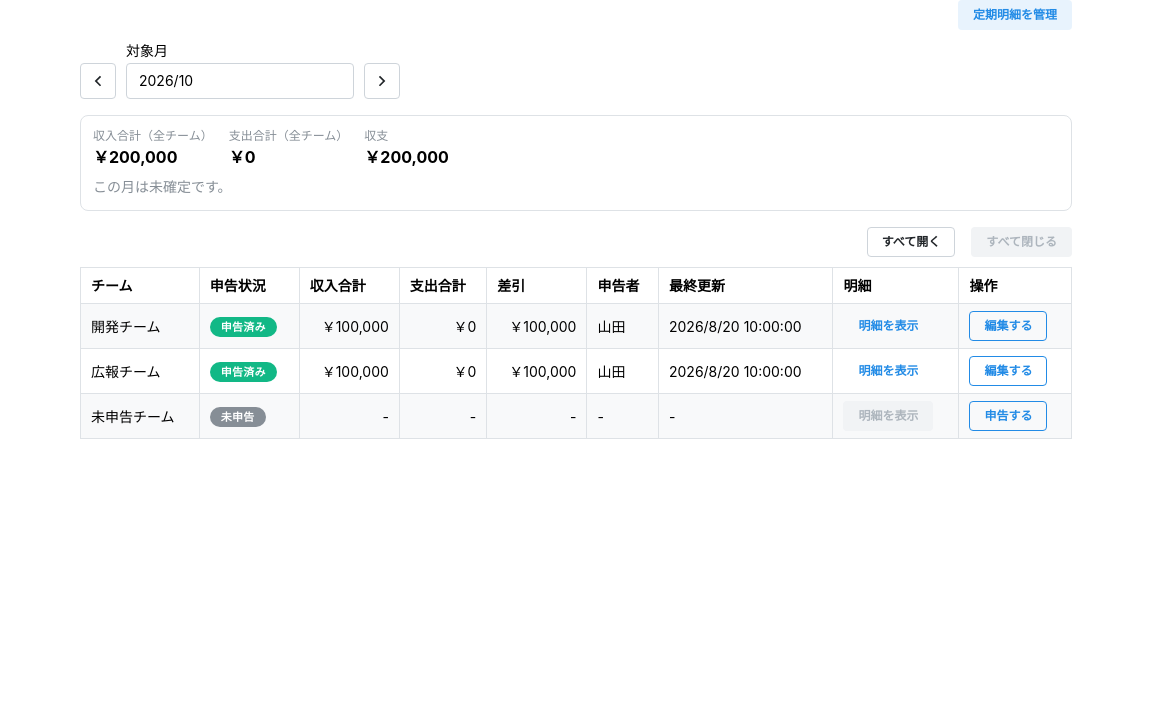
Test: BudgetDeclarationList › 「すべて開く」で申告済みの全チームの明細パネルが同時に表示され、「すべて閉じる」で全て閉じる
Expected: the text "申告が見つかりません" is not shown
Click the button "すべて開く" at (911, 242), box [867,227,955,257]
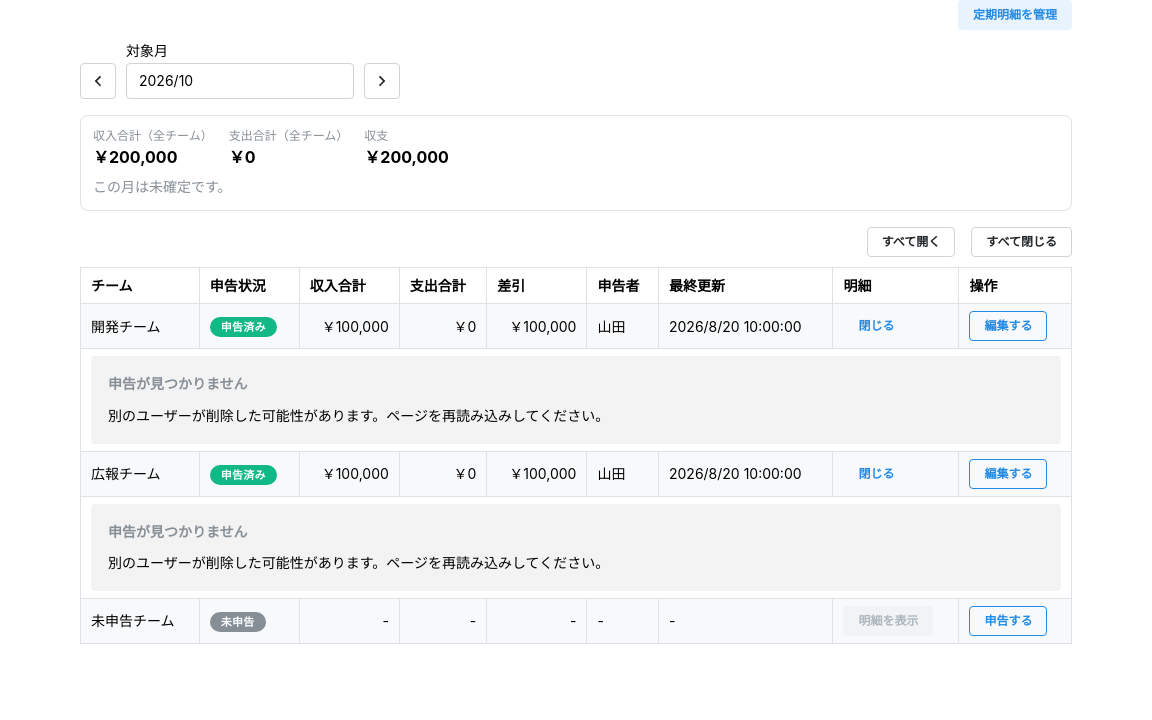
Expected: the button "明細を表示" is shown, [843,606,933,636]
Expected: the text "申告が見つかりません" is shown 2 times, [108,373,248,395]; [108,521,248,542]
Click the button "すべて閉じる" at (1022, 242), box [971,227,1072,257]
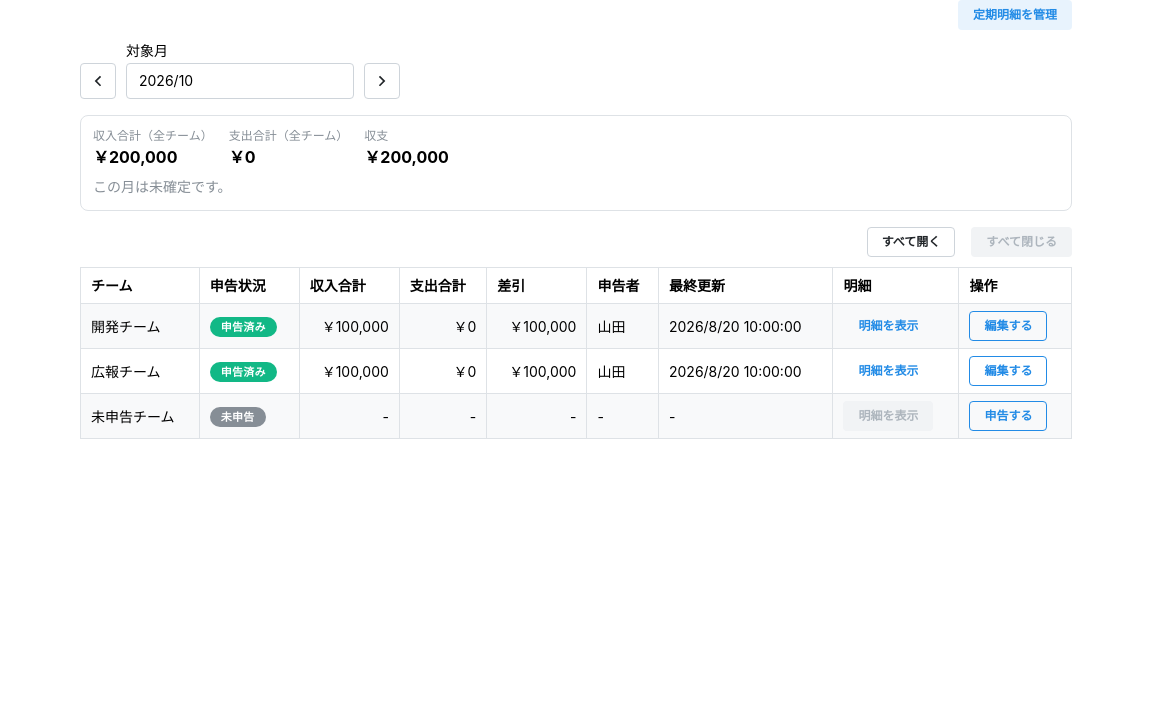
Expected: the text "申告が見つかりません" is gone
